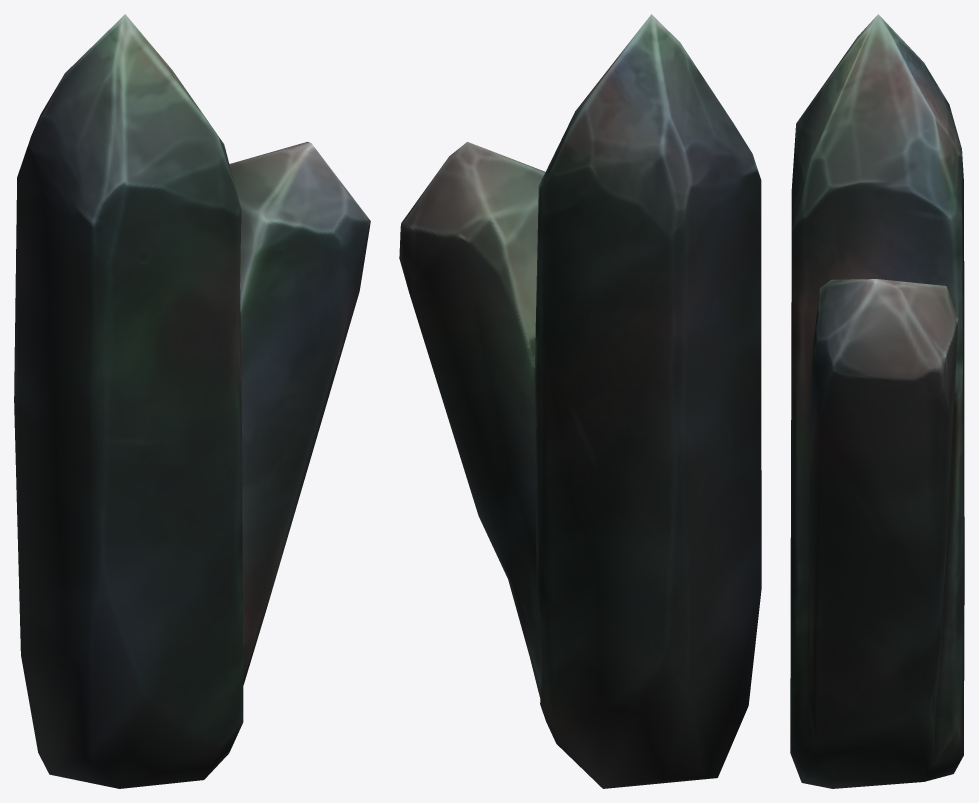
Rendered from SM_Gem_BlackQuartz_007.fbx.
3 views of the same model, side by side, from view 1: azimuth 30°, elevation 25°; view 2: azimuth 150°, elevation 25°; view 3: azimuth 270°, elevation 25° (orthographic).
Visible parts, largest first — view 1: SM_Gem_BlackQuartz_007; view 2: SM_Gem_BlackQuartz_007; view 3: SM_Gem_BlackQuartz_007.
Boxes of the visible parts, x1,y1,x2,y2 form: SM_Gem_BlackQuartz_007: (14,14,370,788); SM_Gem_BlackQuartz_007: (399,14,761,788); SM_Gem_BlackQuartz_007: (790,14,964,788).
Bounding box in the file's own units: 33.07 × 78.98 × 16.48.
